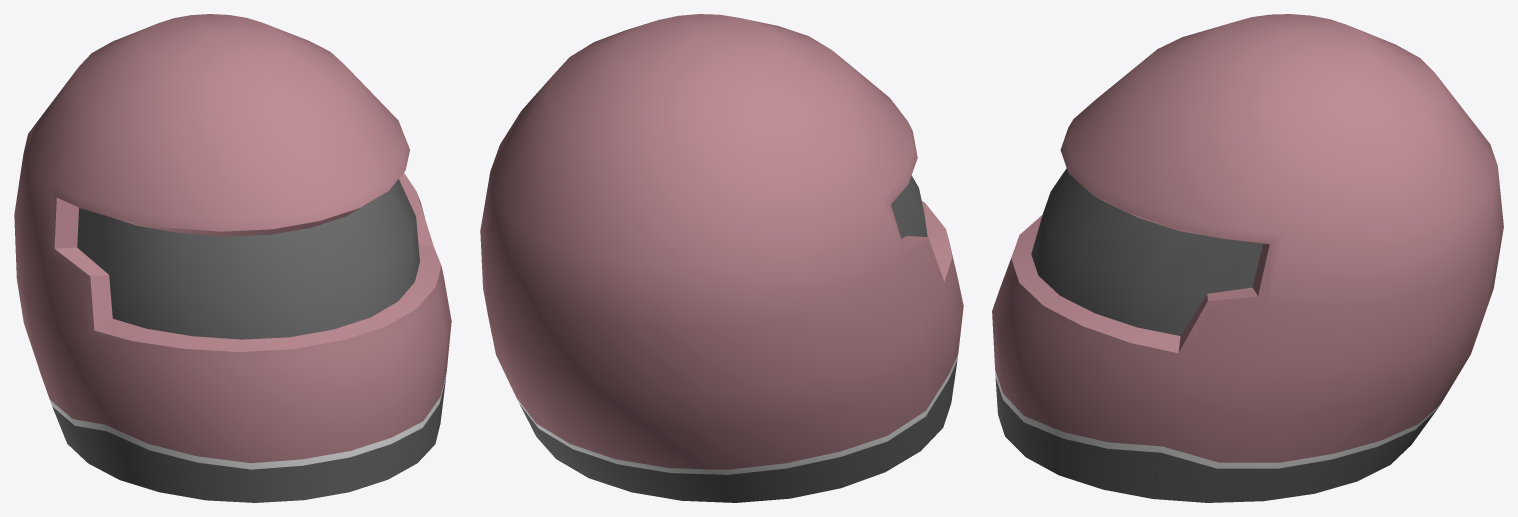
File: Helmet_3.fbx
3 views of the same model, side by side, from view 1: azimuth 30°, elevation 25°; view 2: azimuth 150°, elevation 25°; view 3: azimuth 270°, elevation 25° (orthographic). The views are drawn at different scales.
Parts seen in each view (by area): view 1: Helmet_3; view 2: Helmet_3; view 3: Helmet_3.
Part boxes in pixels (bbox=[...]): Helmet_3: bbox=[14, 14, 451, 502]; Helmet_3: bbox=[480, 14, 963, 502]; Helmet_3: bbox=[992, 14, 1503, 502].
Size of the model in its own units: 0.2881 by 0.2804 by 0.3336.
